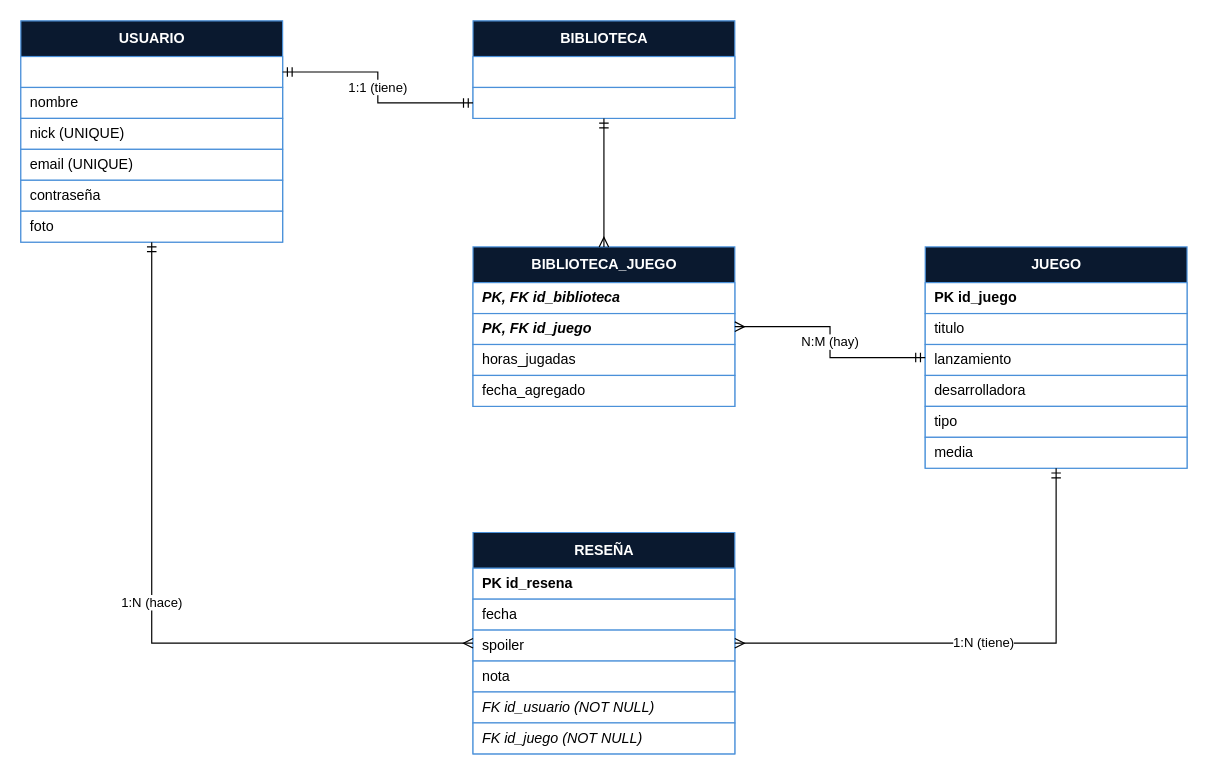
The diagram is 1208 pixels wide and 775 high, and some of its shapes have lost their labels. The shapes that lost their labels are listed below. From the top down, each one's centre as x and y in pixels, then its label:
At (x=151, y=71): "PK id_usuario".
At (x=603, y=71): "PK id_biblioteca".
At (x=603, y=102): "FK id_usuario (UNIQUE, NOT NULL)".
